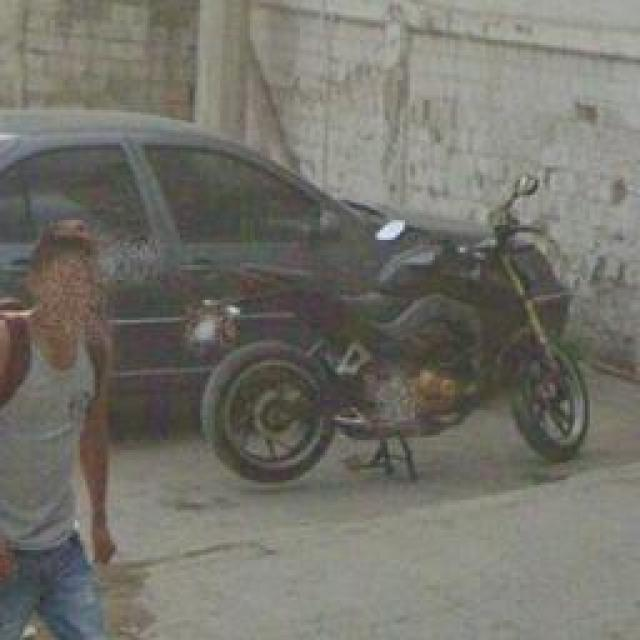car: (0, 98, 590, 420)
motorbike: (165, 176, 638, 492)
